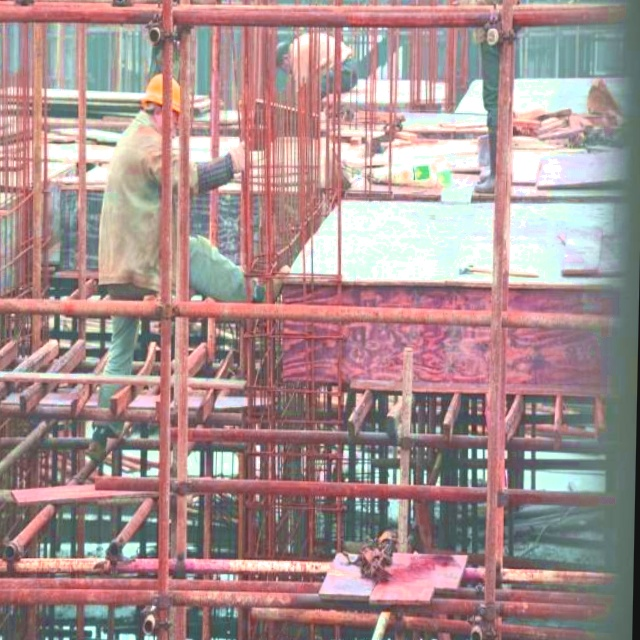Con_Casco: (141, 69, 182, 138)
